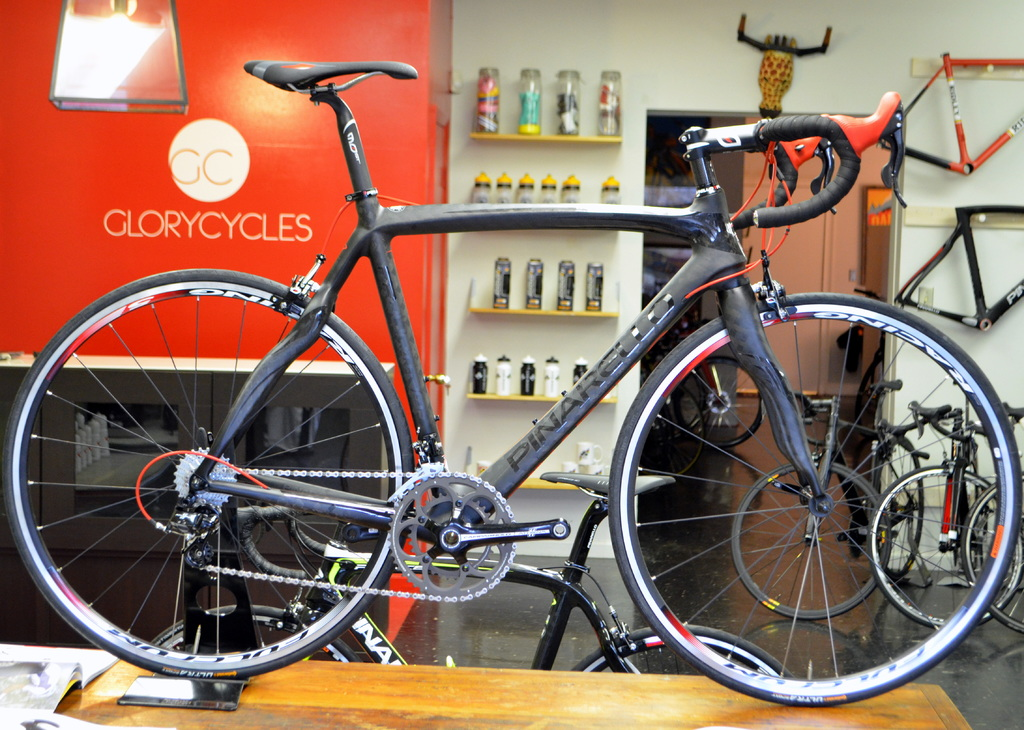Bike_toward: (80, 62, 977, 680)
